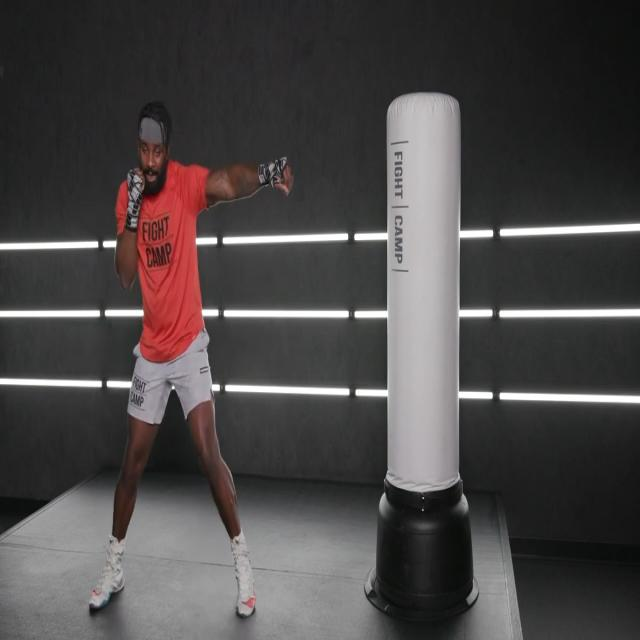Jab: (76, 147, 310, 621)
